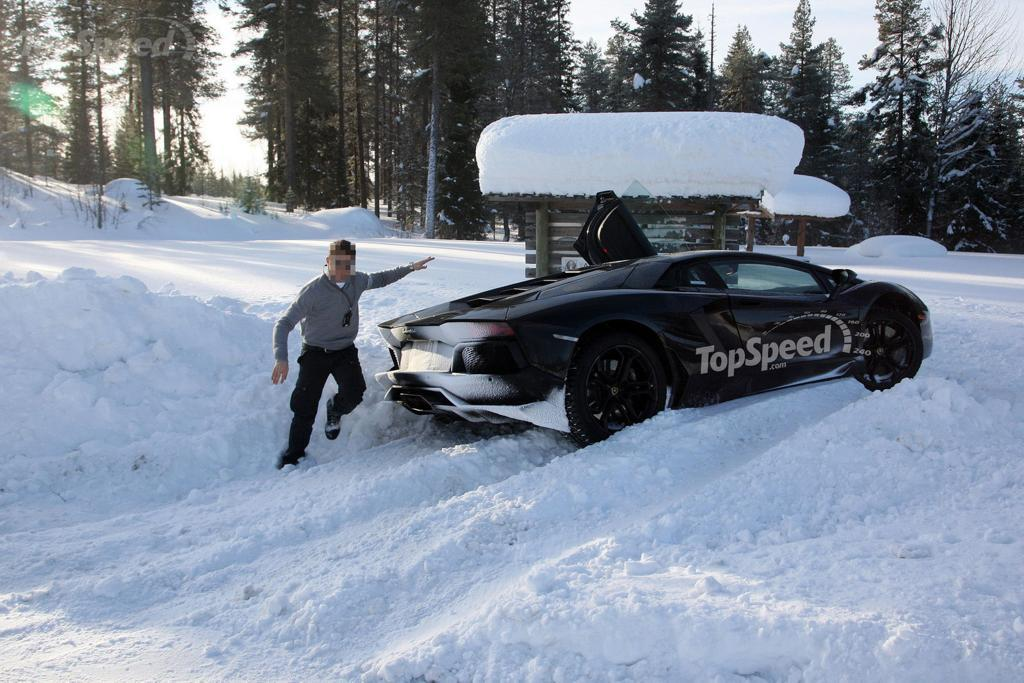face: (330, 252, 354, 282)
